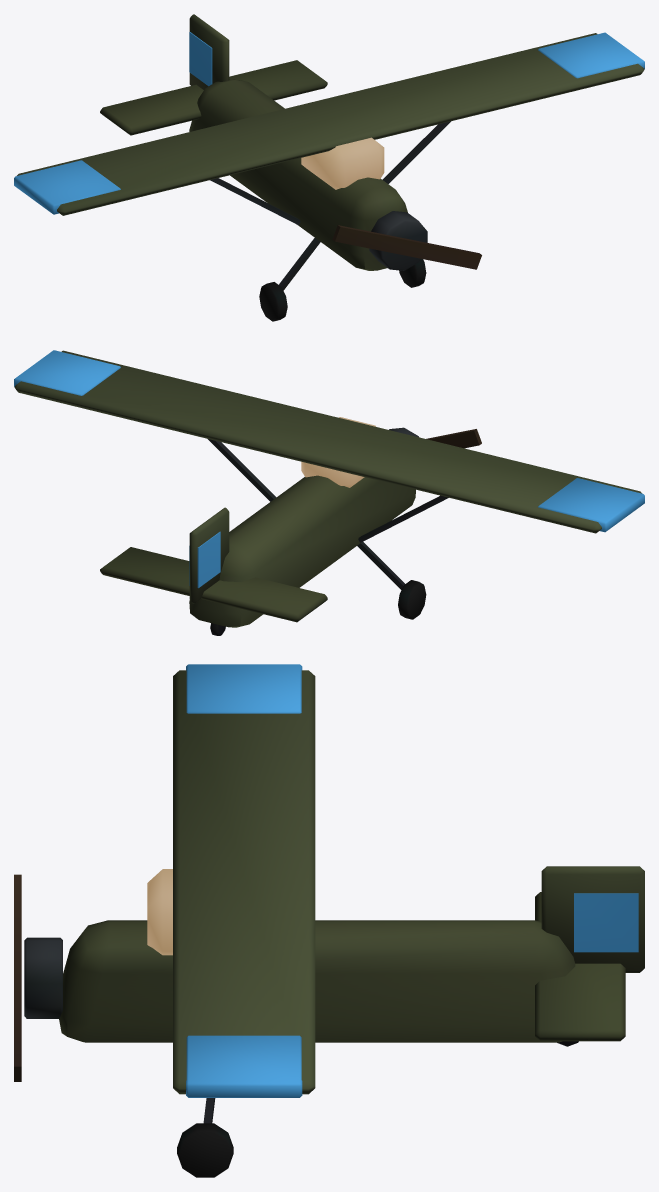
The model's file is recon.glb.
3 renders of one model, top to bottom at view 1: azimuth 30°, elevation 25°; view 2: azimuth 150°, elevation 25°; view 3: azimuth 270°, elevation 25°, orthographic. The views are drawn at different scales.
Visible parts, largest first — view 1: recon_root_matte, recon_root_trim, recon_root_metal, recon_root_glass, recon_prop_matte; view 2: recon_root_matte, recon_root_trim, recon_root_metal, recon_root_glass, recon_prop_matte; view 3: recon_root_matte, recon_root_trim, recon_root_metal, recon_root_glass, recon_prop_matte.
Boxes of the visible parts, <box> form: recon_root_matte: <box>17,14,644,321</box>; recon_root_trim: <box>14,32,644,214</box>; recon_root_metal: <box>210,121,450,290</box>; recon_root_glass: <box>301,137,384,189</box>; recon_prop_matte: <box>332,225,481,269</box>; recon_root_matte: <box>14,350,641,635</box>; recon_root_trim: <box>14,350,644,588</box>; recon_root_metal: <box>208,427,448,589</box>; recon_root_glass: <box>301,417,375,487</box>; recon_prop_matte: <box>426,429,481,448</box>; recon_root_matte: <box>59,670,644,1177</box>; recon_root_trim: <box>186,664,638,1097</box>; recon_root_metal: <box>24,937,215,1123</box>; recon_root_glass: <box>147,869,172,955</box>; recon_prop_matte: <box>14,874,21,1081</box>.
Size of the model in its own units: 7.7 by 2.21 by 4.88.
